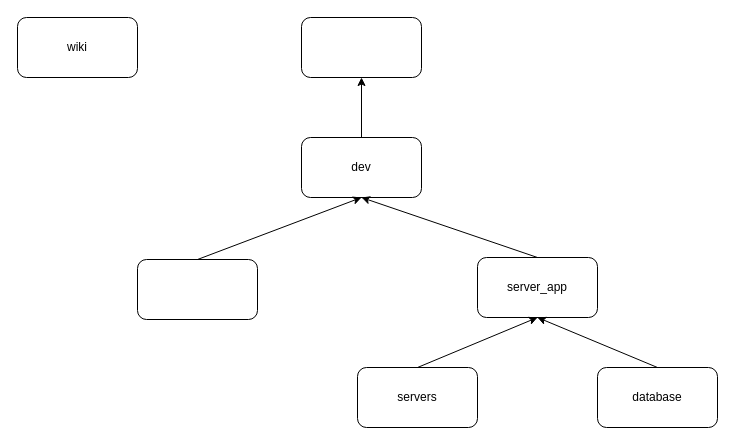
This 735x445 diagram has some shape labels left out. The shapes that lost their labels are listed below. From the top down, each one's centre as x and y in pixels, then its label:
the point at 361,47: main
the point at 197,289: client_app
